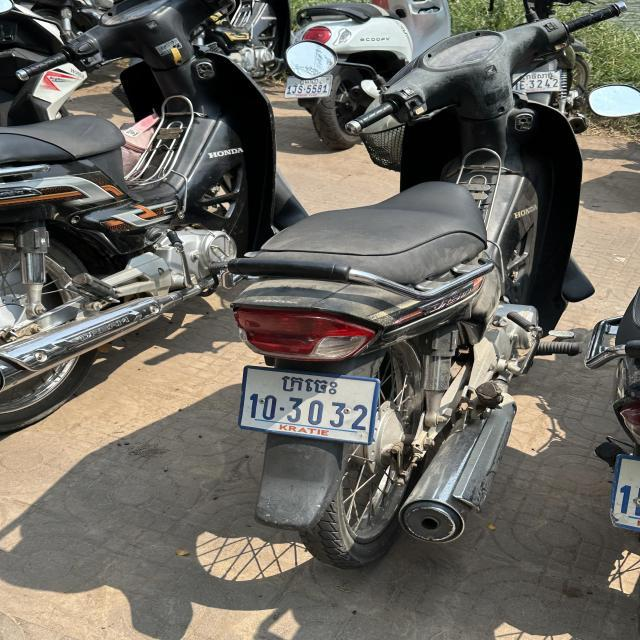Kratie: (281, 374, 339, 394)
